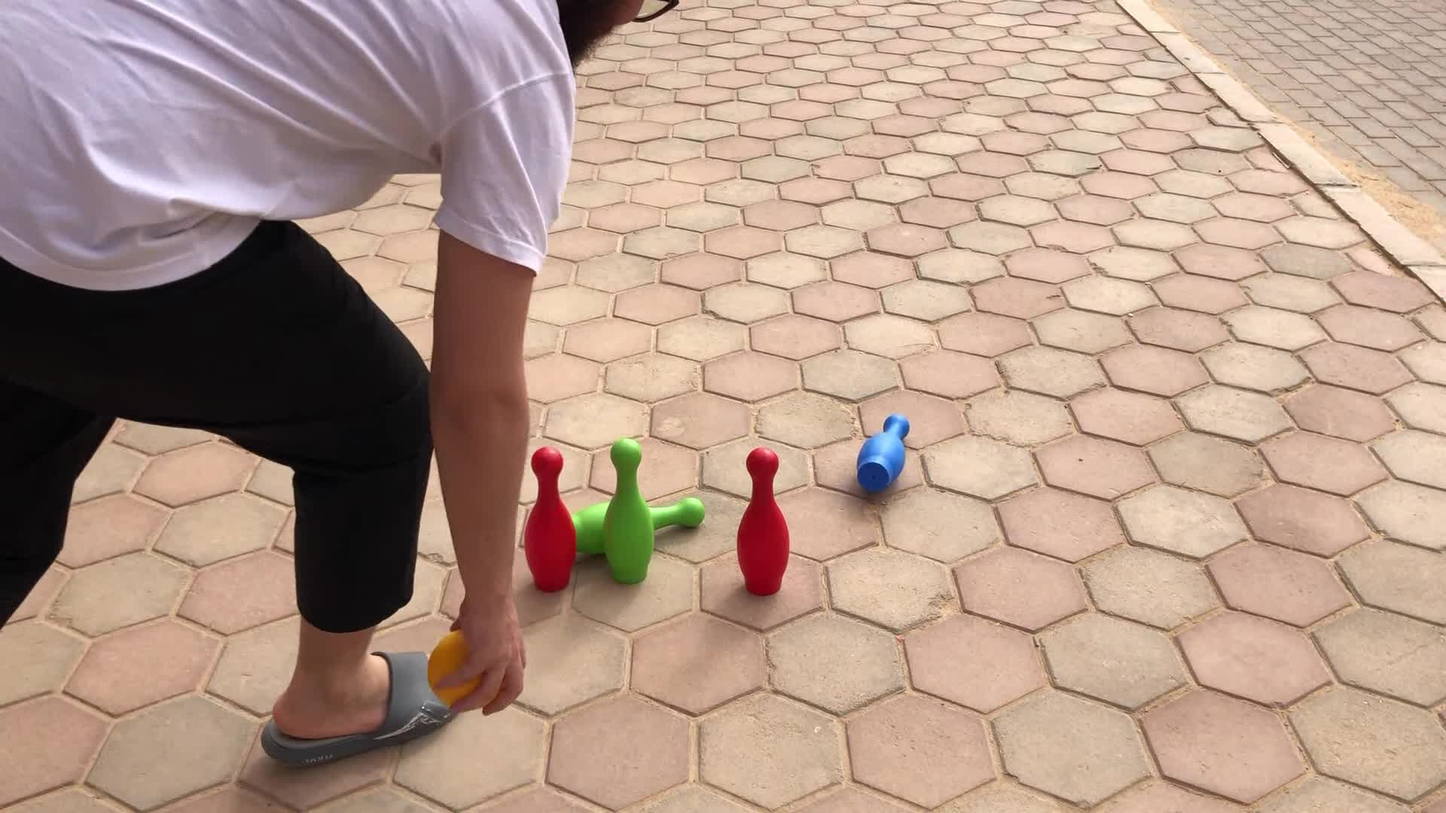bowling-pin: (524, 446, 576, 592), (603, 437, 655, 583), (738, 448, 789, 596), (857, 413, 911, 496), (650, 498, 706, 531)
